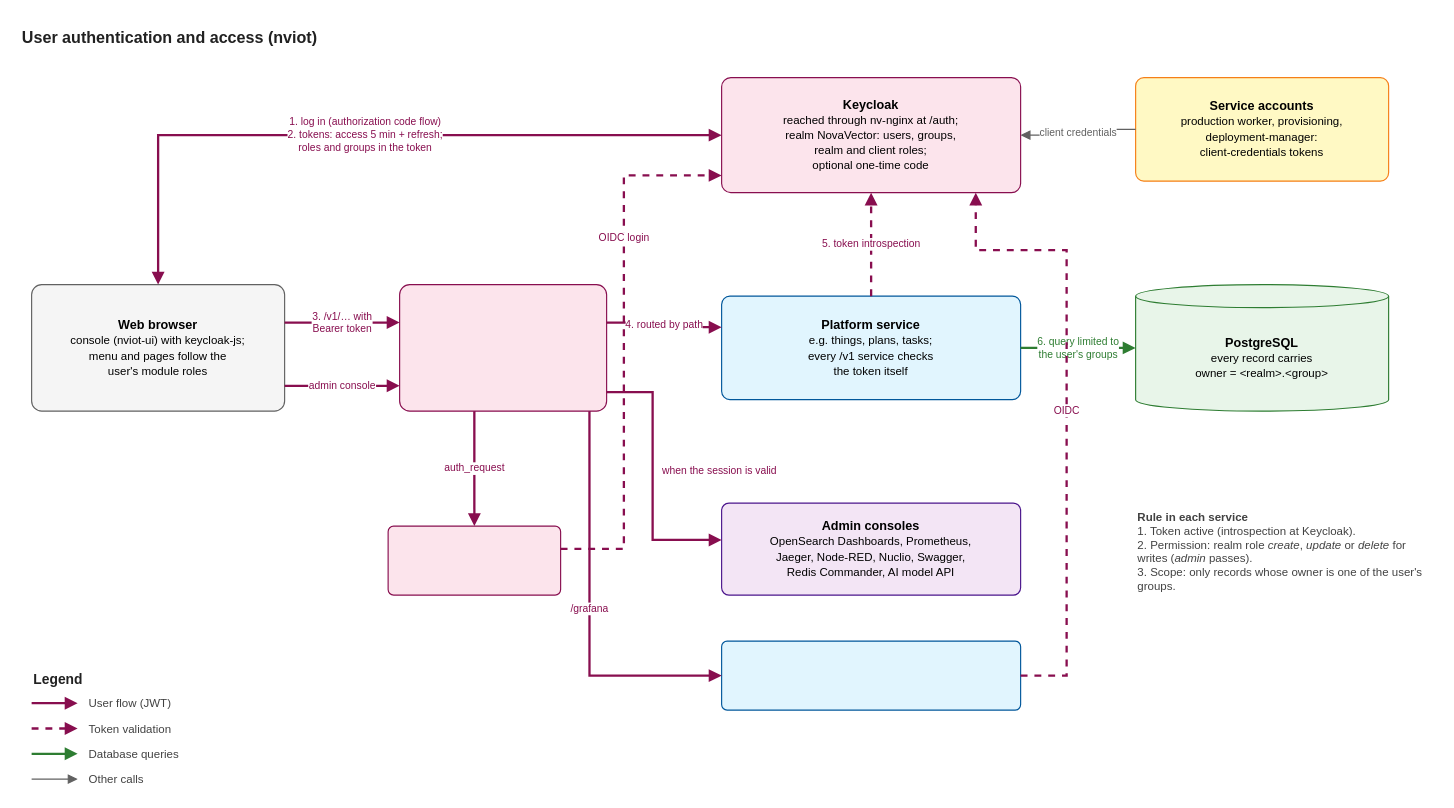
Image size: 1454x808. Some labels were removed from this diagram. Each missing label, with the box of its shape:
Grafana own Keycloak login; role from its client roles: (720, 640, 1021, 710)
nv-nginx :443 routes by path: (398, 283, 607, 411)
oauth2-proxy :4180 cookie session: (387, 525, 561, 595)
